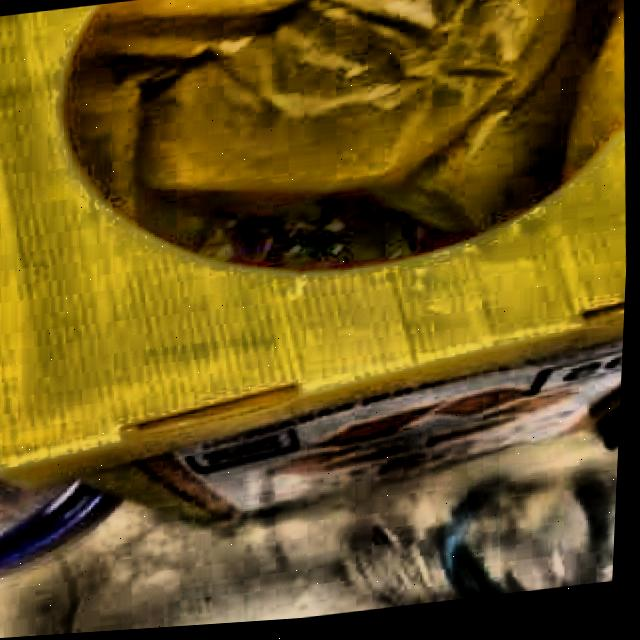plastic: (354, 474, 622, 613)
